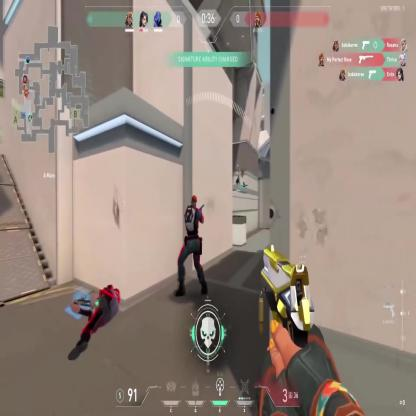enemy: (177, 194, 208, 298)
enemy_head: (191, 196, 197, 209)
